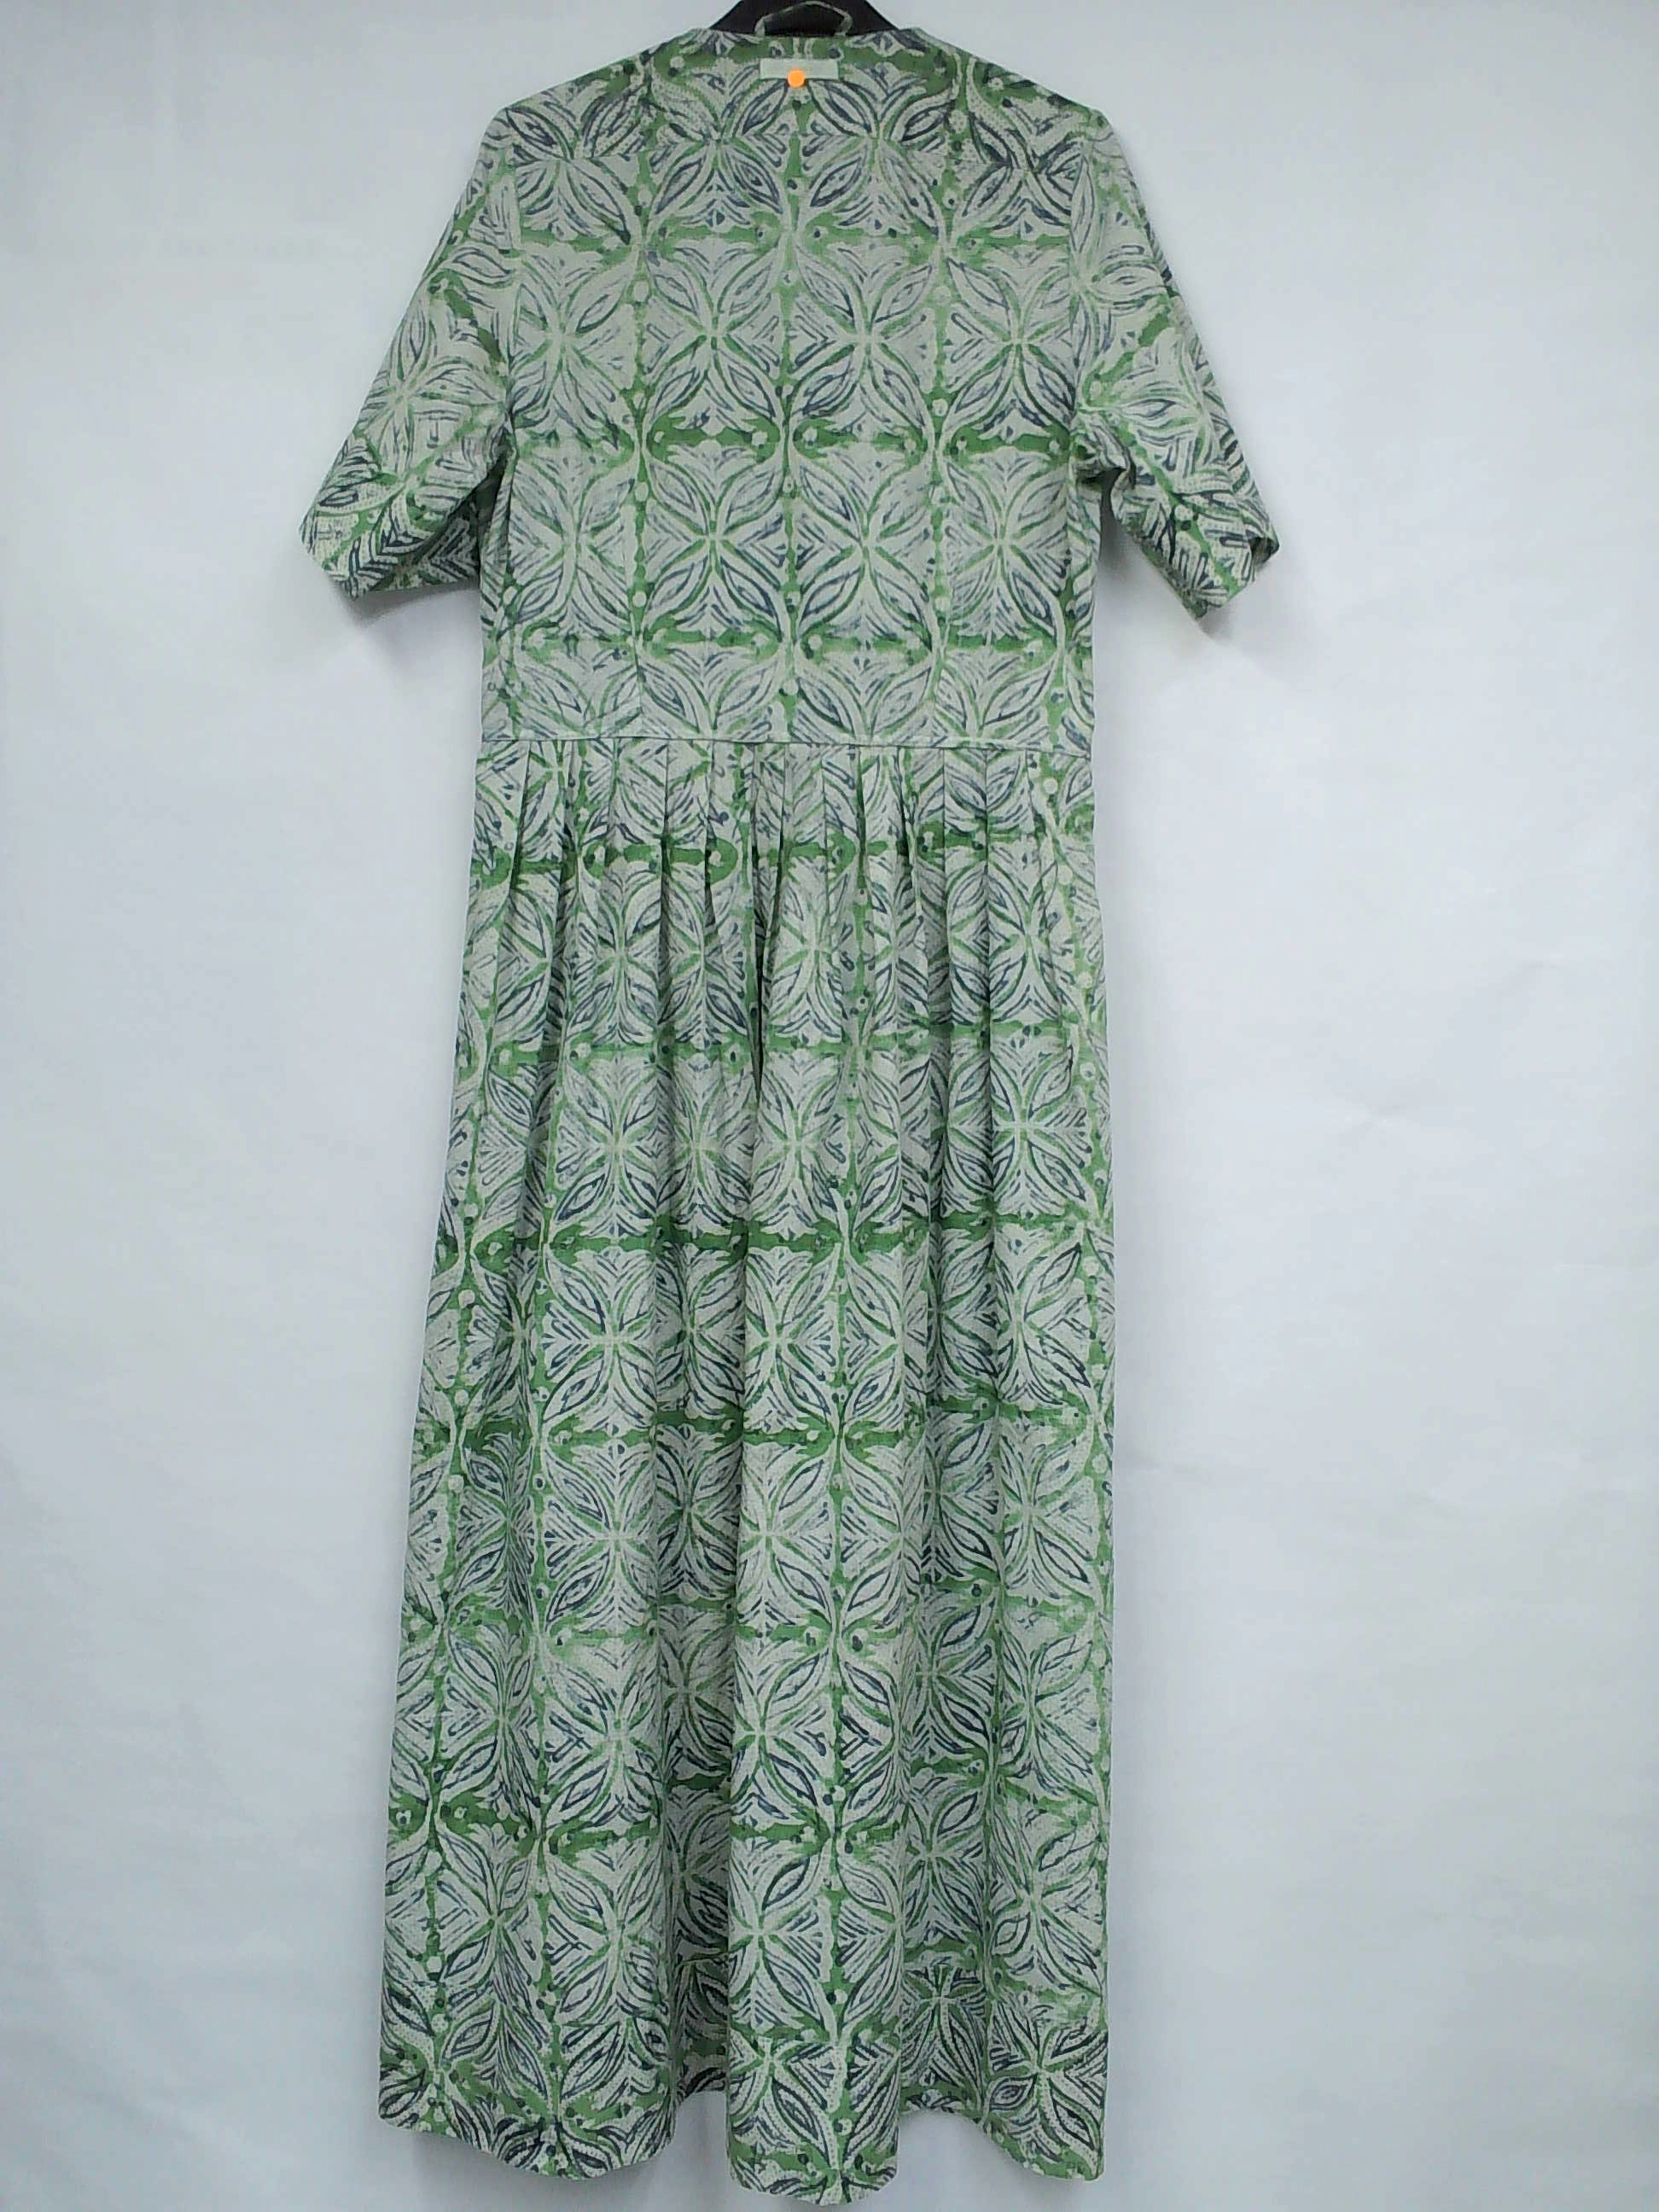structural: (716, 38, 880, 106)
